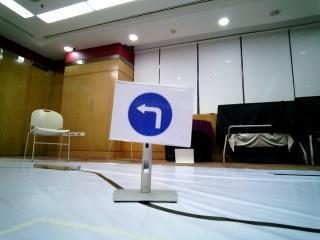left: (117, 86, 180, 138)
